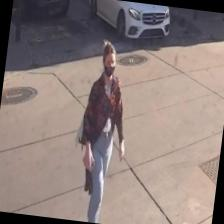person: (70, 38, 137, 224)
